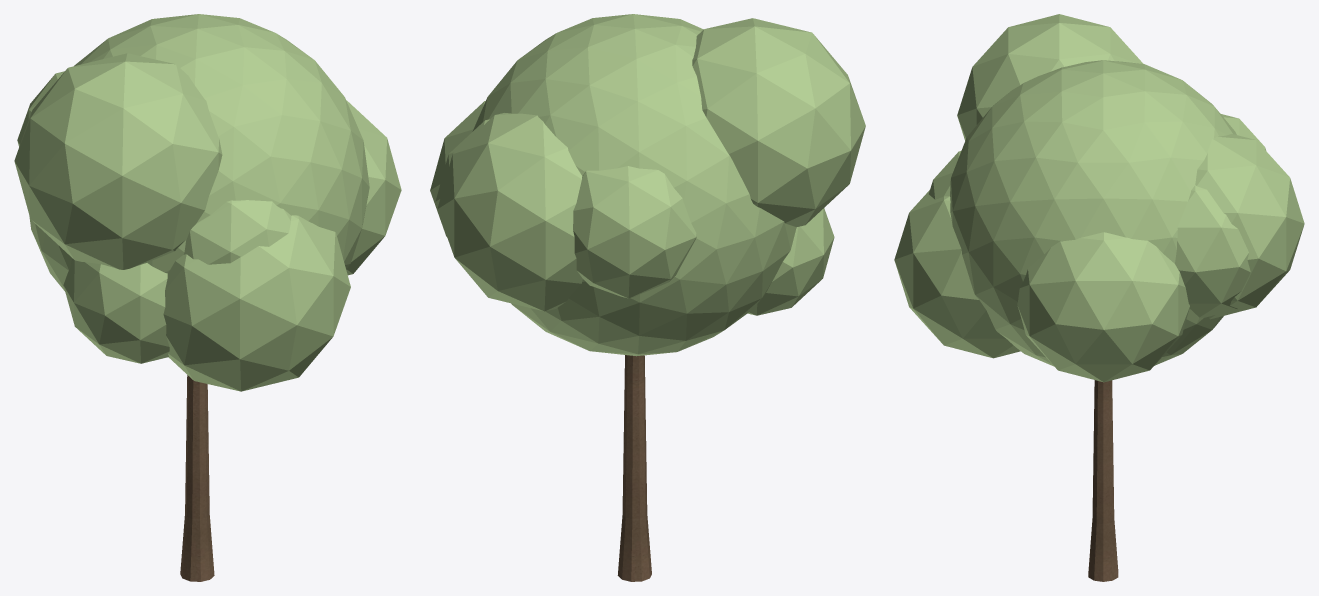
File: tree_b.glb
3 renders of one model, left to right at view 1: azimuth 30°, elevation 25°; view 2: azimuth 150°, elevation 25°; view 3: azimuth 270°, elevation 25°, orthographic. The views are drawn at different scales.
Visible parts, largest first — view 1: tree_b_leaf2, tree_b_bark; view 2: tree_b_leaf2, tree_b_bark; view 3: tree_b_leaf2, tree_b_bark.
Boxes of the visible parts, x1,y1,x2,y2 form: tree_b_leaf2: (14, 14, 401, 391); tree_b_bark: (180, 375, 214, 581); tree_b_leaf2: (430, 14, 865, 356); tree_b_bark: (617, 355, 651, 581); tree_b_leaf2: (894, 14, 1304, 382); tree_b_bark: (1088, 380, 1118, 581).
Size of the model in its own units: 4.62 by 6.38 by 4.66.
Materials: 2 (1 with a texture image).
